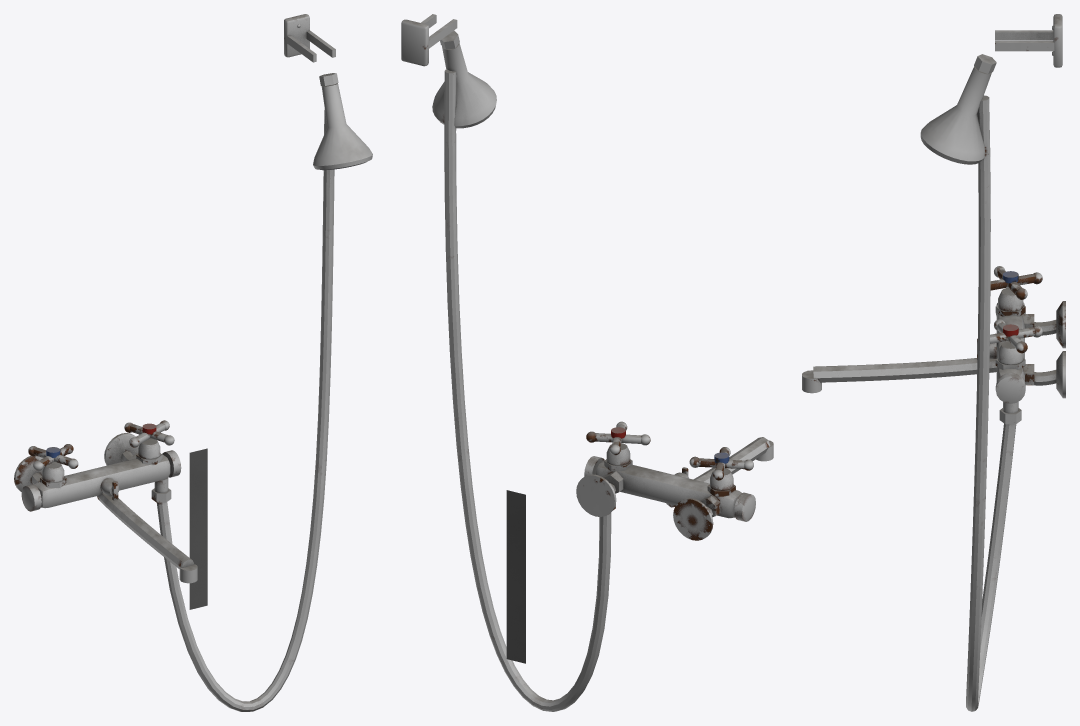
The model's file is SM_ShowerHose.fbx.
3 renders of one model, left to right at view 1: azimuth 30°, elevation 25°; view 2: azimuth 150°, elevation 25°; view 3: azimuth 270°, elevation 25°, orthographic. The views are drawn at different scales.
Visible parts, largest first — view 1: SM_ShowerHose; view 2: SM_ShowerHose; view 3: SM_ShowerHose.
Boxes of the visible parts, x1=… form: SM_ShowerHose: x1=14, y1=14, x2=372, y2=711; SM_ShowerHose: x1=401, y1=14, x2=773, y2=711; SM_ShowerHose: x1=802, y1=14, x2=1065, y2=711.
Bounding box in the file's own units: 0.53 × 1.03 × 0.3347.
1 material, 1 textured.
